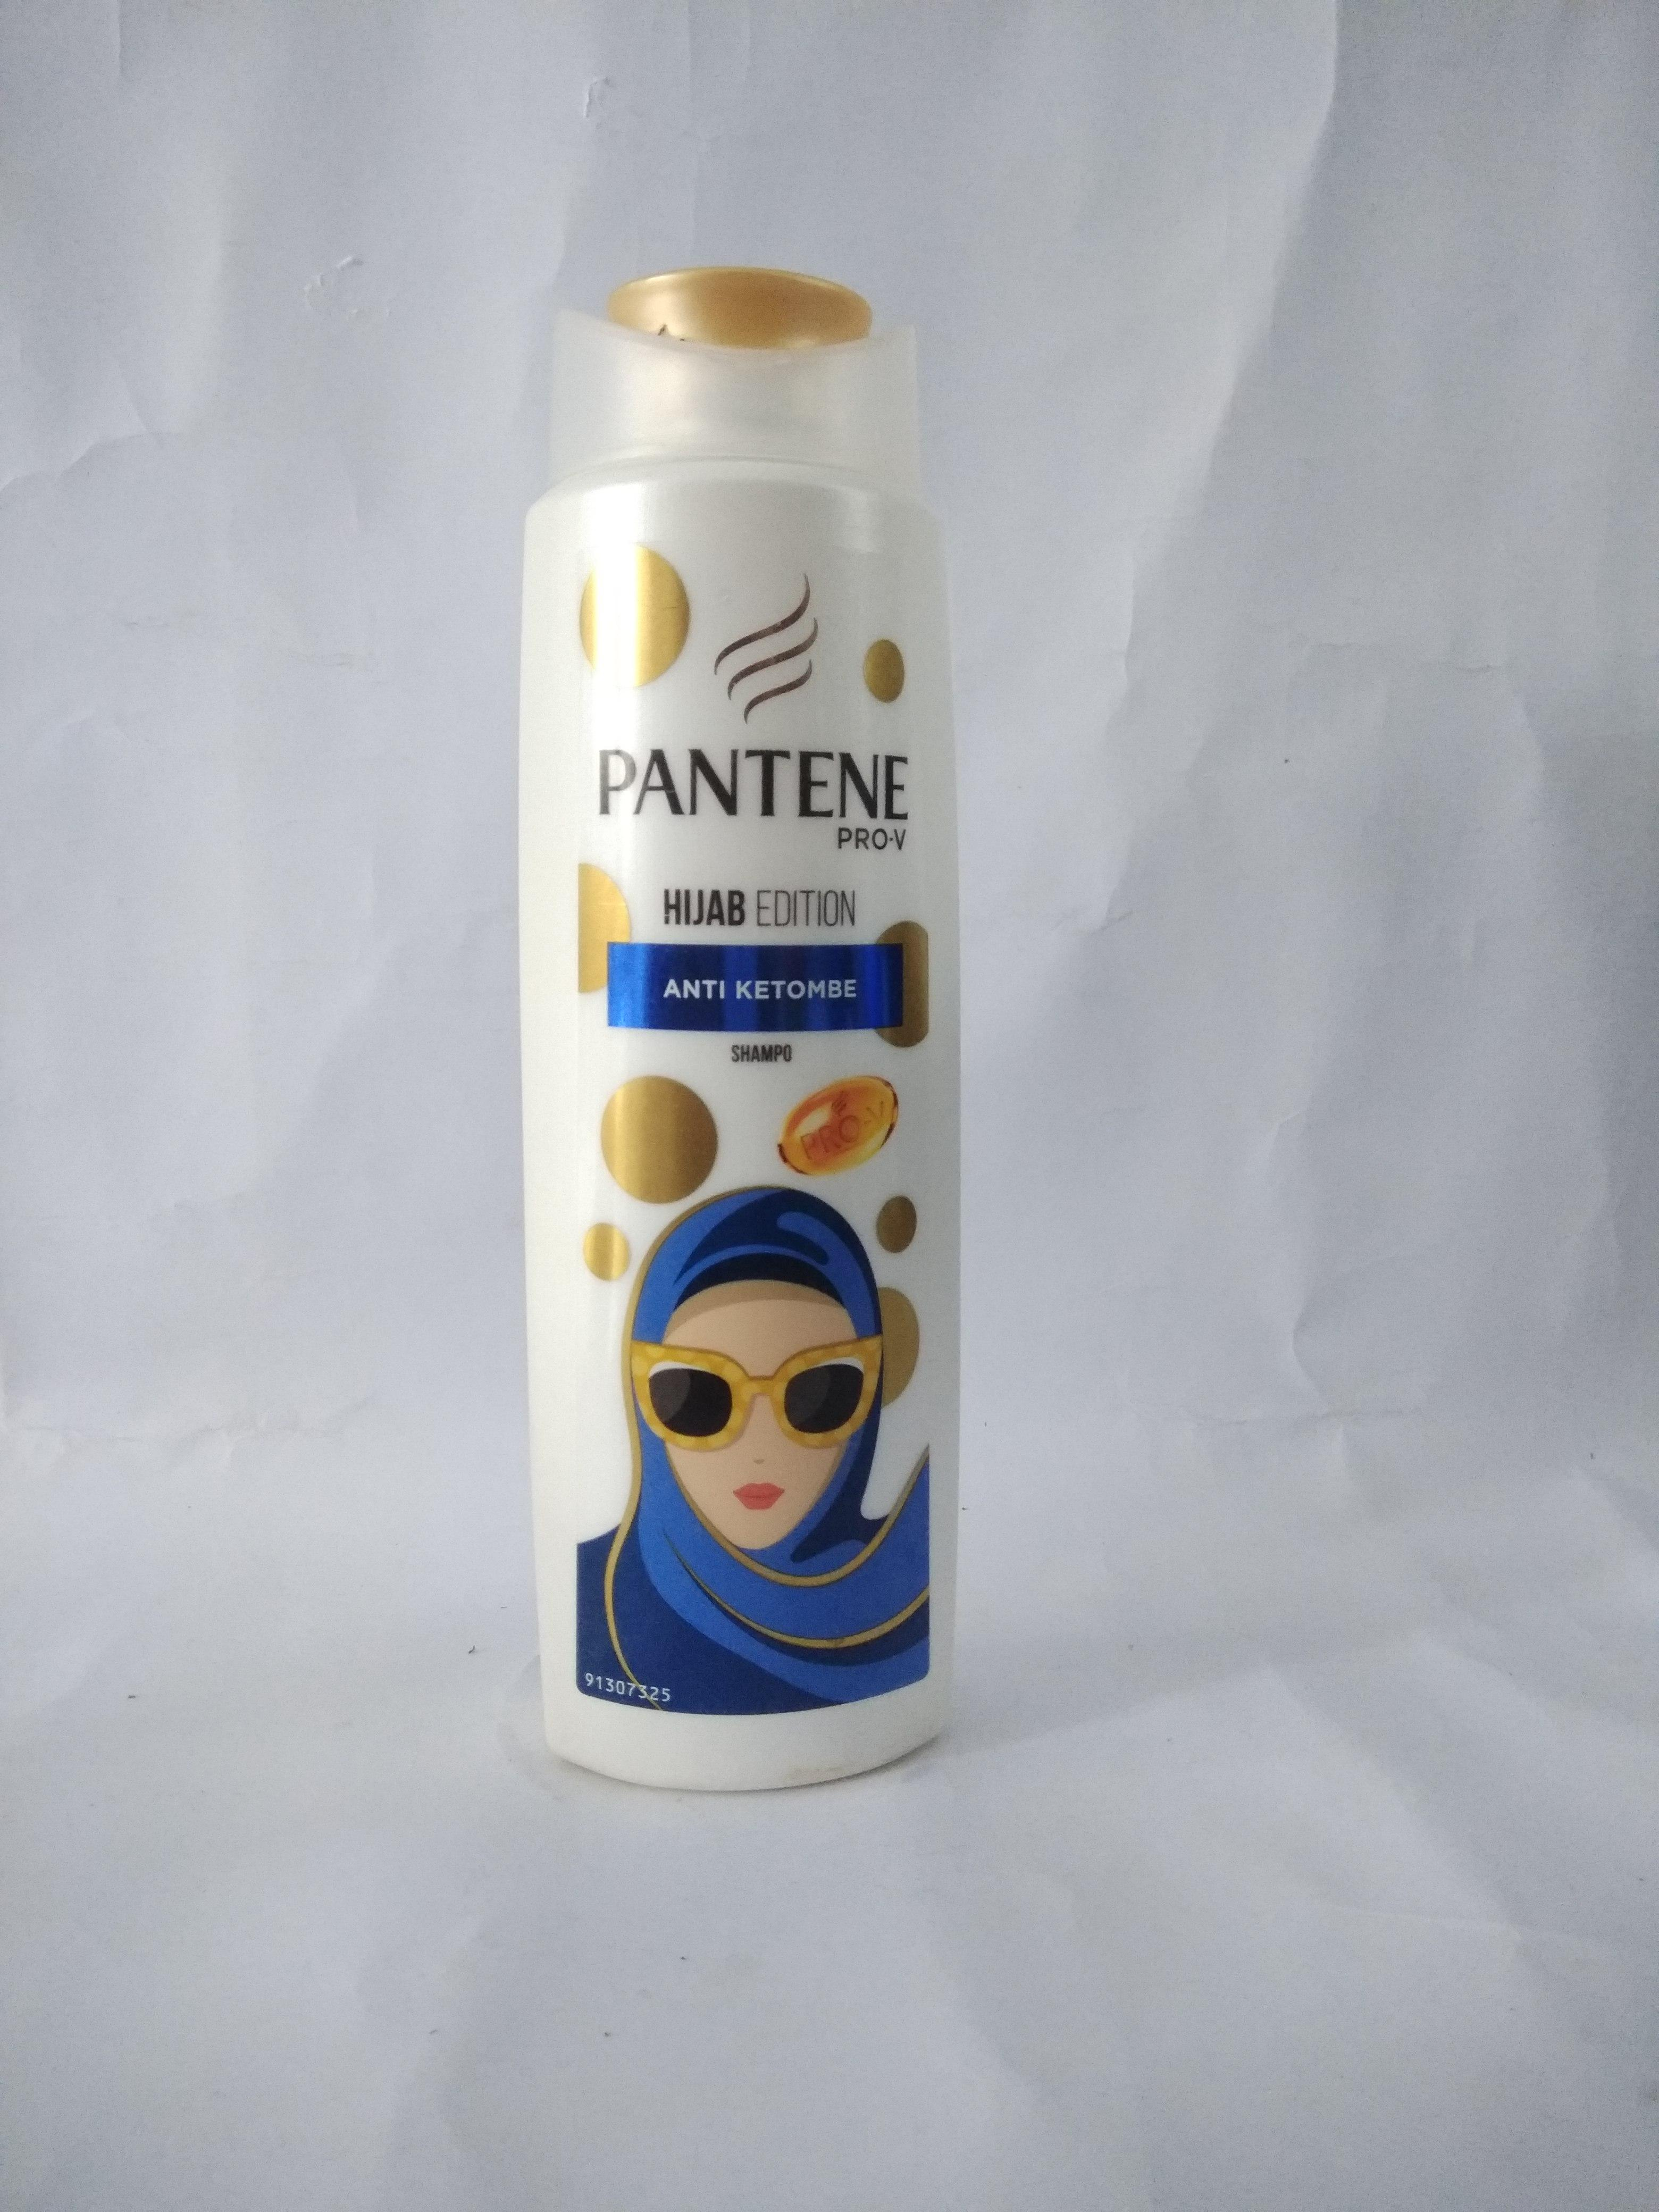HDPE: (521, 465, 955, 1789), (552, 268, 917, 496)
